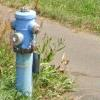a fire hydrant: (11, 8, 40, 97)
